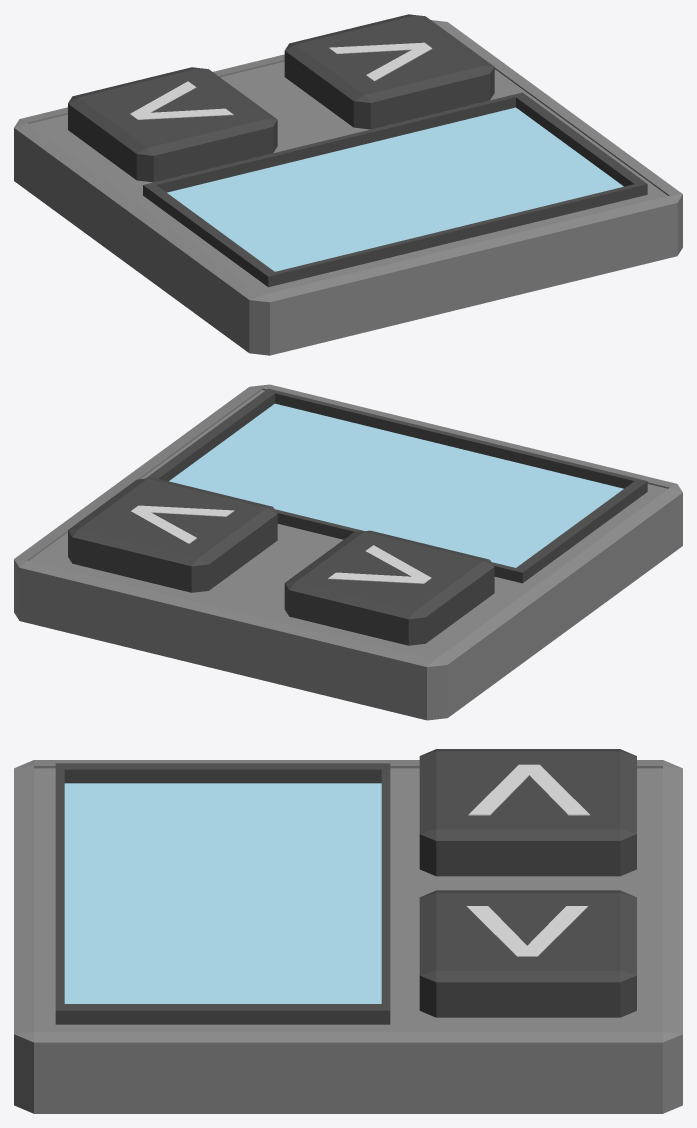
The model's file is Degree.fbx.
3 renders of one model, top to bottom at view 1: azimuth 30°, elevation 25°; view 2: azimuth 150°, elevation 25°; view 3: azimuth 270°, elevation 25°, orthographic. The views are drawn at different scales.
Visible parts, largest first — view 1: Base, Button_1, Button_2; view 2: Base, Button_2, Button_1; view 3: Base, Button_1, Button_2.
Part boxes in pixels (x1,y1,x2,y2): Base: [14, 20, 682, 355]; Button_1: [284, 14, 494, 129]; Button_2: [68, 67, 277, 182]; Base: [14, 384, 682, 720]; Button_2: [284, 530, 494, 645]; Button_1: [68, 477, 277, 592]; Base: [14, 760, 682, 1113]; Button_1: [419, 890, 636, 1017]; Button_2: [419, 749, 636, 876].
Bounding box in the file's own units: 800 × 151 × 800.
